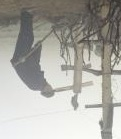person: (10, 8, 57, 99)
